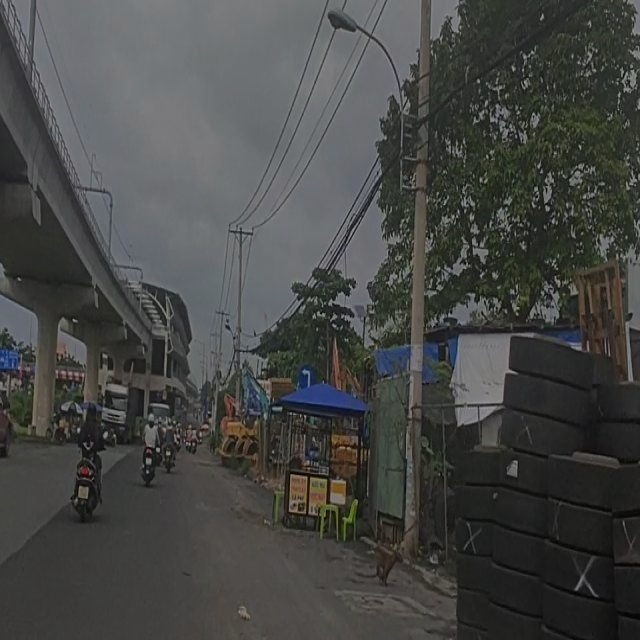R.301e: (298, 364, 314, 392)
